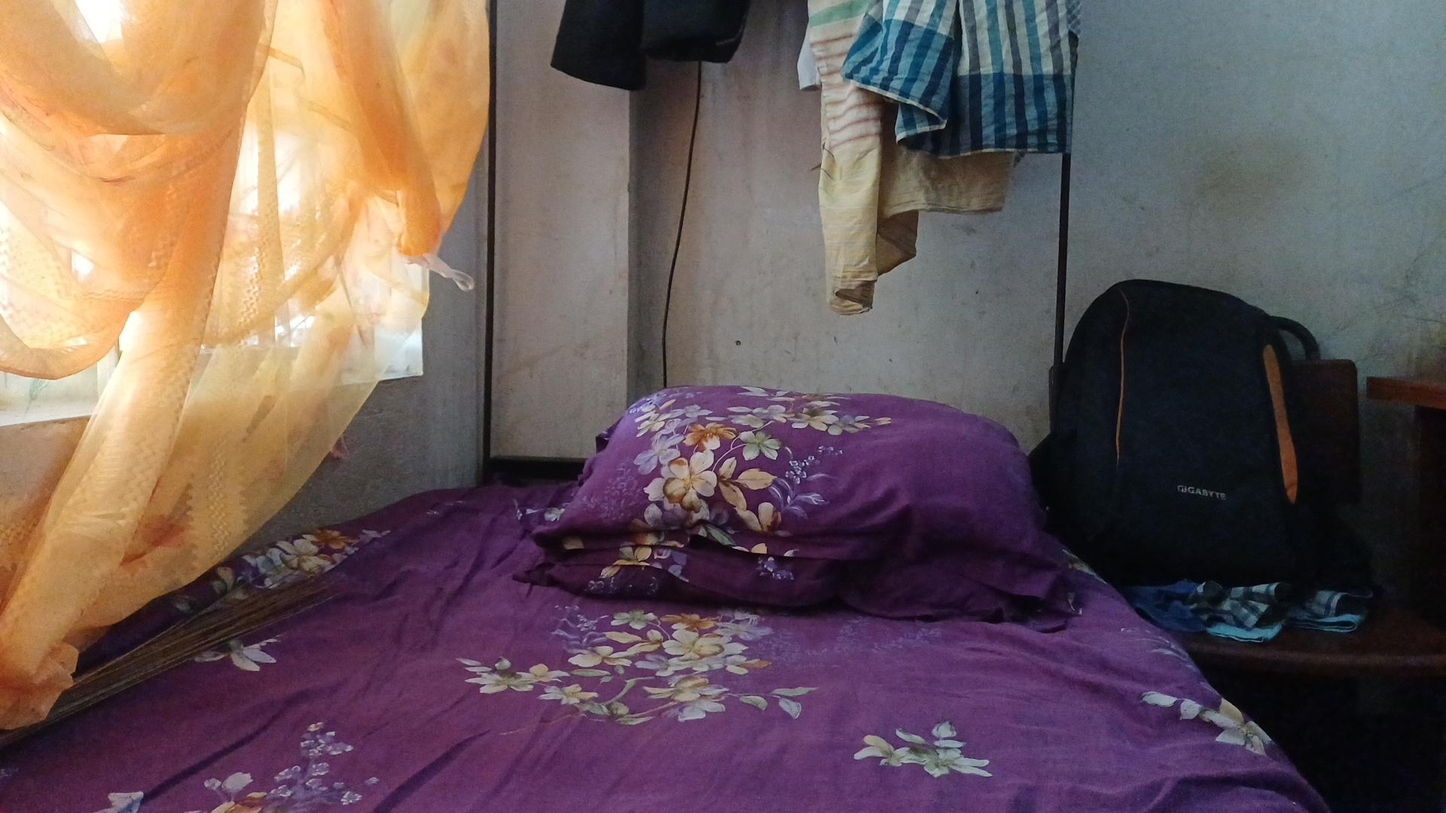Bag: (1048, 262, 1379, 608)
Pillow: (566, 369, 1053, 629)
